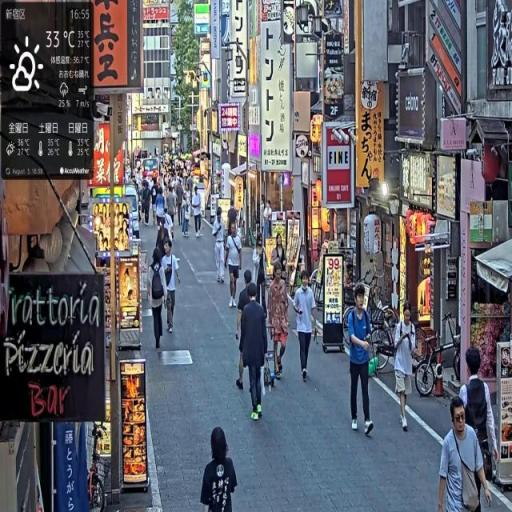person: (438, 394, 493, 512), (460, 348, 499, 499), (347, 286, 376, 439), (240, 284, 271, 424), (395, 303, 420, 433), (200, 426, 237, 512), (292, 271, 319, 388), (268, 264, 291, 385), (235, 269, 256, 394), (148, 247, 168, 356), (162, 238, 182, 335), (225, 216, 243, 309), (213, 207, 228, 286), (192, 187, 204, 237)
